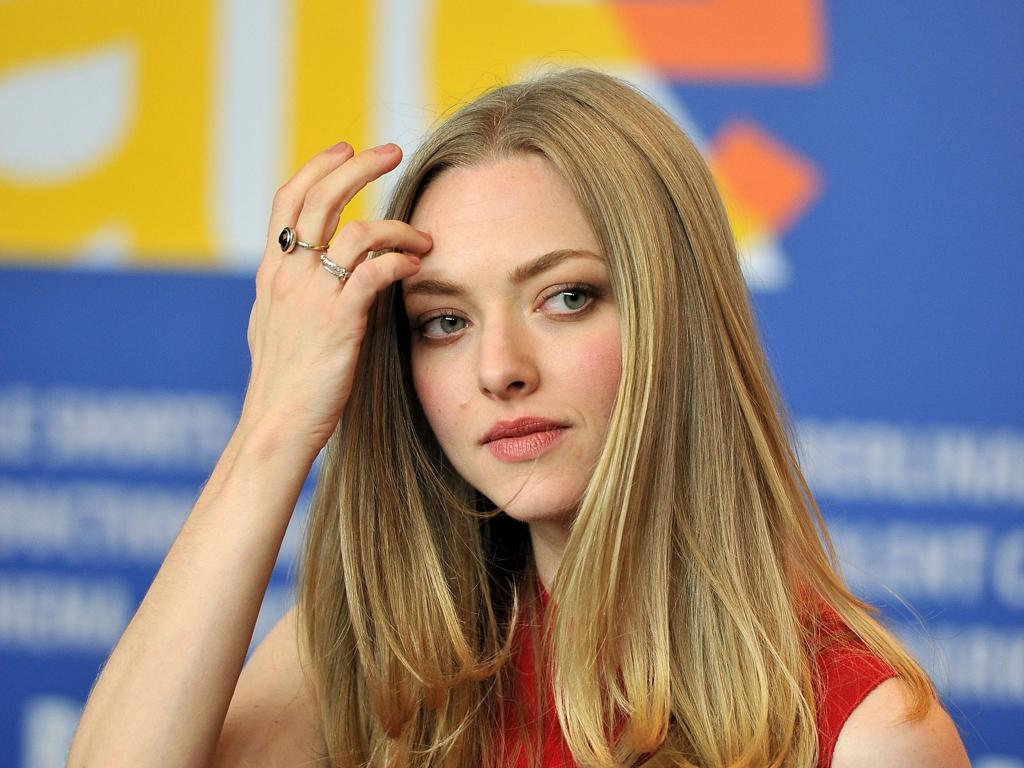face: (398, 156, 654, 520)
